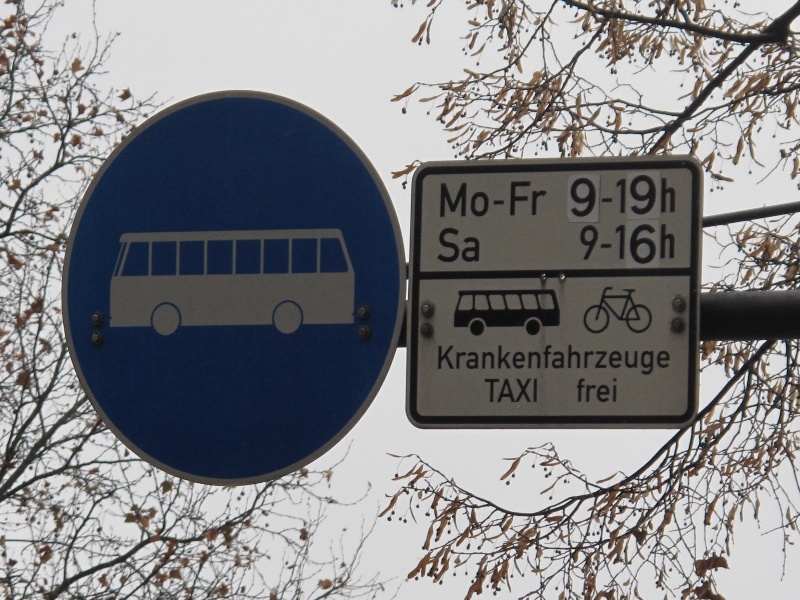text: (577, 176, 592, 218), (593, 176, 608, 218), (609, 176, 624, 218), (625, 176, 640, 218), (641, 176, 656, 218), (657, 176, 672, 218), (593, 224, 608, 265), (609, 224, 624, 265), (625, 224, 640, 265), (641, 224, 656, 265), (657, 224, 672, 265), (465, 228, 481, 263), (449, 181, 464, 218), (465, 181, 480, 218), (481, 181, 496, 218), (497, 181, 512, 218), (513, 181, 528, 218), (529, 181, 544, 218), (449, 228, 464, 263), (580, 224, 592, 265), (449, 345, 464, 377), (465, 345, 480, 377), (481, 345, 496, 377), (497, 345, 512, 377), (513, 345, 528, 377), (529, 345, 544, 377), (545, 345, 560, 377), (561, 345, 576, 377), (577, 345, 592, 377), (593, 345, 608, 377), (609, 345, 624, 377), (625, 345, 640, 377), (641, 345, 656, 377), (657, 345, 670, 377), (497, 378, 512, 403), (513, 378, 528, 403), (593, 378, 608, 403), (578, 378, 592, 403), (438, 345, 448, 377), (440, 228, 448, 263), (485, 378, 496, 403), (441, 181, 448, 218), (529, 378, 538, 403), (609, 378, 618, 403), (572, 176, 576, 218), (673, 176, 676, 218), (673, 224, 676, 265), (545, 181, 548, 218)
